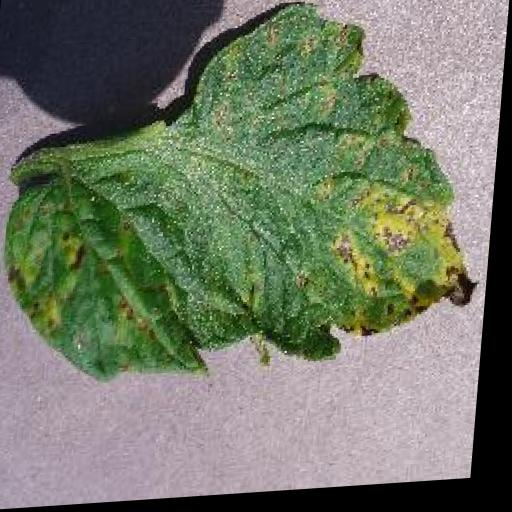Septoria: (2, 0, 496, 387)
